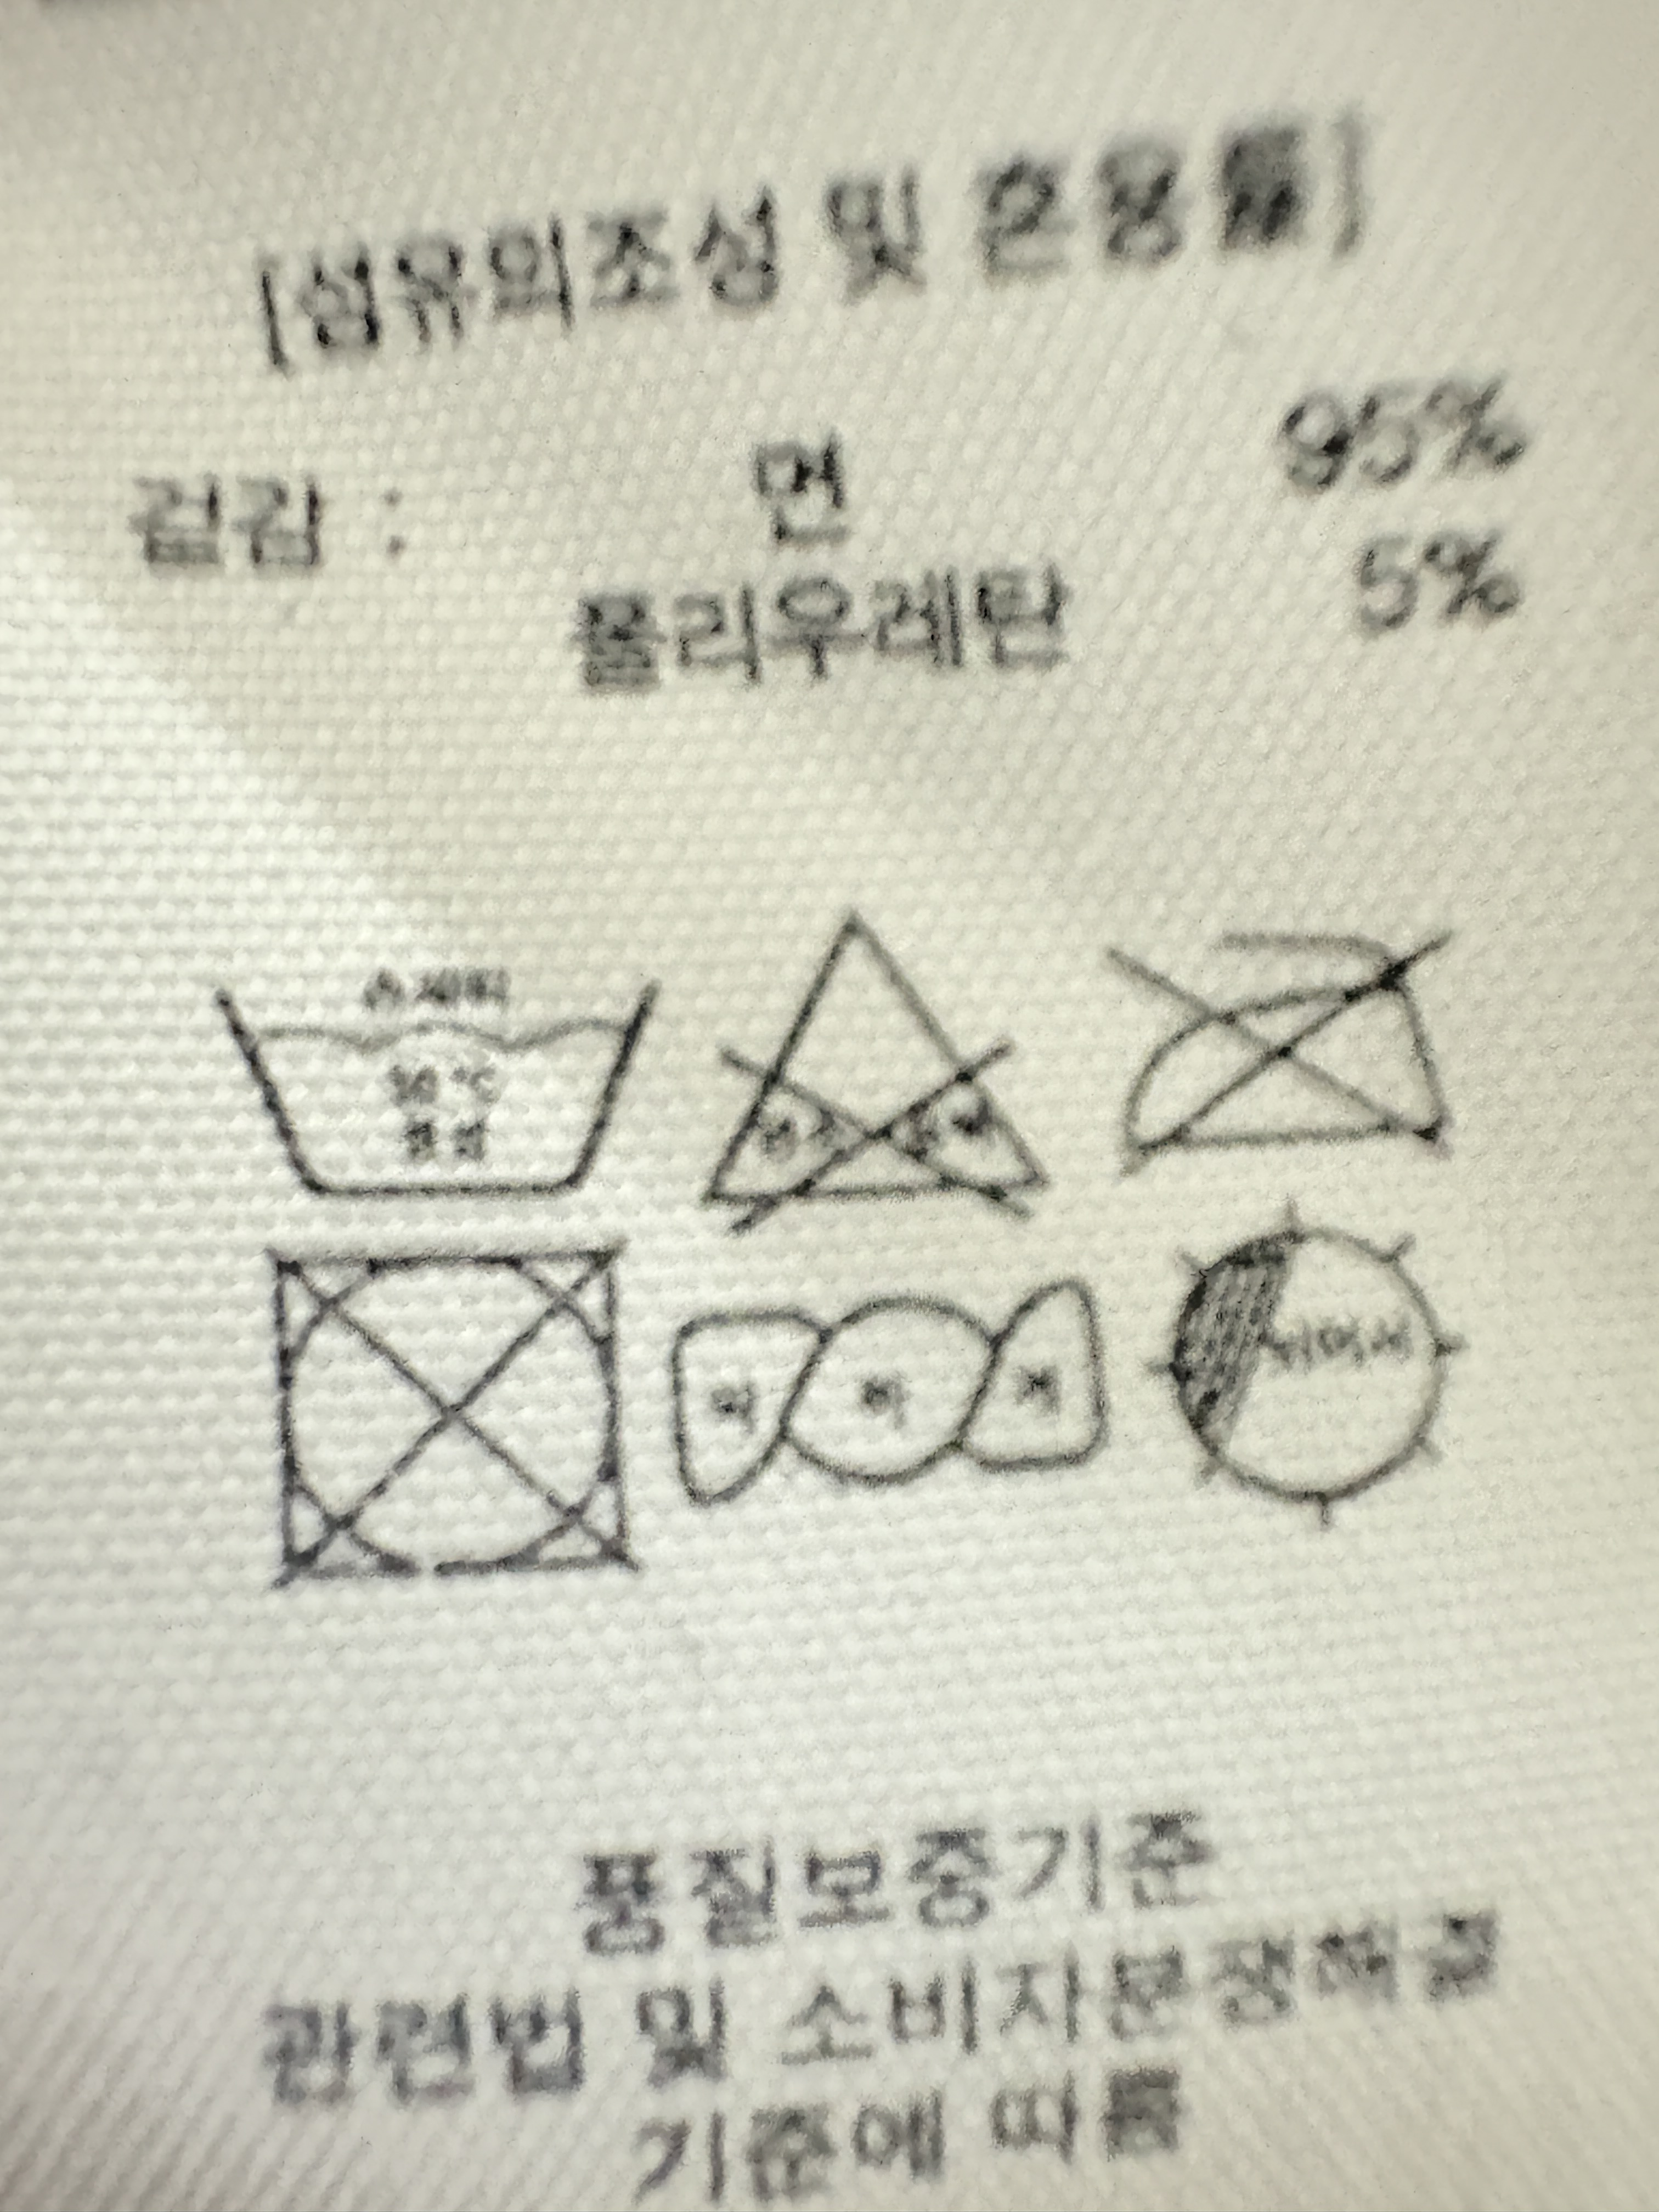DN_bleach: (690, 890, 1068, 1255)
DN_iron: (1091, 889, 1478, 1190)
DN_tumble_dry: (194, 1198, 707, 1620)
dry_flat_in_shade: (208, 924, 661, 1234), (1134, 1189, 1484, 1544)
wring: (648, 1263, 1087, 1528), (923, 1262, 1129, 1496)
